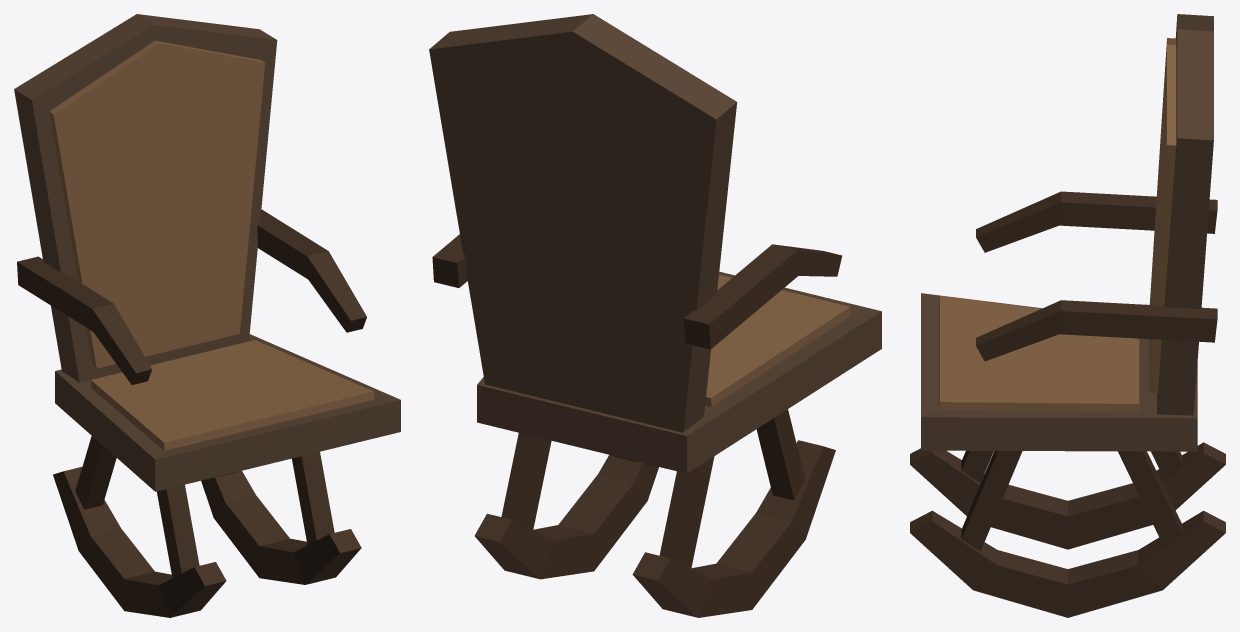
File: Chair_3_Brown.fbx
The picture shows the model from 3 angles, left to right: view 1: azimuth 30°, elevation 25°; view 2: azimuth 150°, elevation 25°; view 3: azimuth 270°, elevation 25°; orthographic projection. The views are drawn at different scales.
Parts seen in each view (by area): view 1: Chair_3_Brown_Part_2, Chair_3_Brown_Part_1, Chair_3_Brown_Part_3; view 2: Chair_3_Brown_Part_1, Chair_3_Brown_Part_3, Chair_3_Brown_Part_2; view 3: Chair_3_Brown_Part_3, Chair_3_Brown_Part_1, Chair_3_Brown_Part_2.
Part boxes in pixels (bbox=[...]): Chair_3_Brown_Part_2: bbox=[49, 40, 374, 450]; Chair_3_Brown_Part_1: bbox=[14, 14, 400, 491]; Chair_3_Brown_Part_3: bbox=[17, 209, 366, 617]; Chair_3_Brown_Part_1: bbox=[429, 14, 881, 473]; Chair_3_Brown_Part_3: bbox=[432, 234, 842, 617]; Chair_3_Brown_Part_2: bbox=[705, 275, 850, 407]; Chair_3_Brown_Part_3: bbox=[910, 191, 1225, 617]; Chair_3_Brown_Part_1: bbox=[921, 14, 1213, 451]; Chair_3_Brown_Part_2: bbox=[939, 38, 1176, 412].
Bounding box in the file's own units: 80 × 164 × 85.96.
